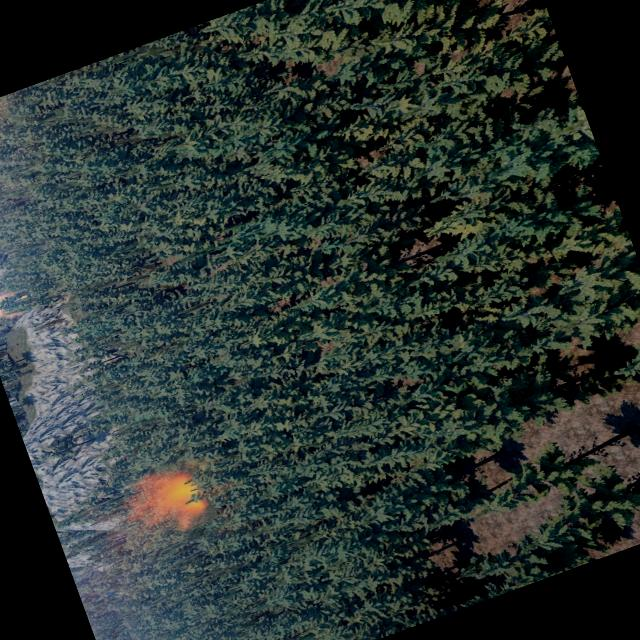fire: (162, 469, 209, 521)
smoke: (49, 468, 208, 606), (0, 94, 32, 184), (0, 286, 31, 330)
